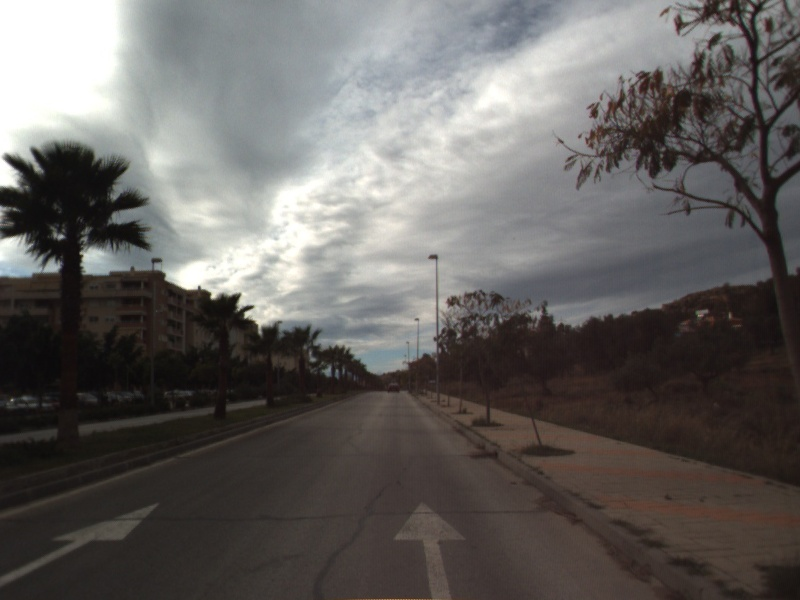STRAIGHT: (1, 500, 163, 588), (391, 498, 469, 600)
